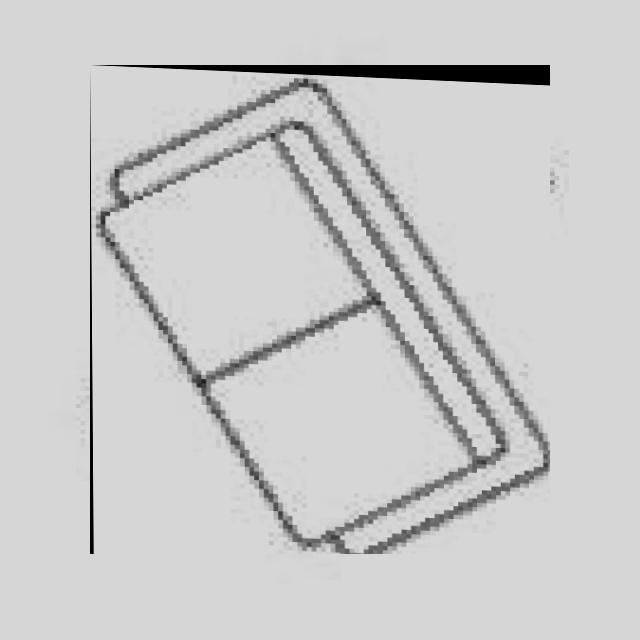sofa: (90, 65, 550, 554)
